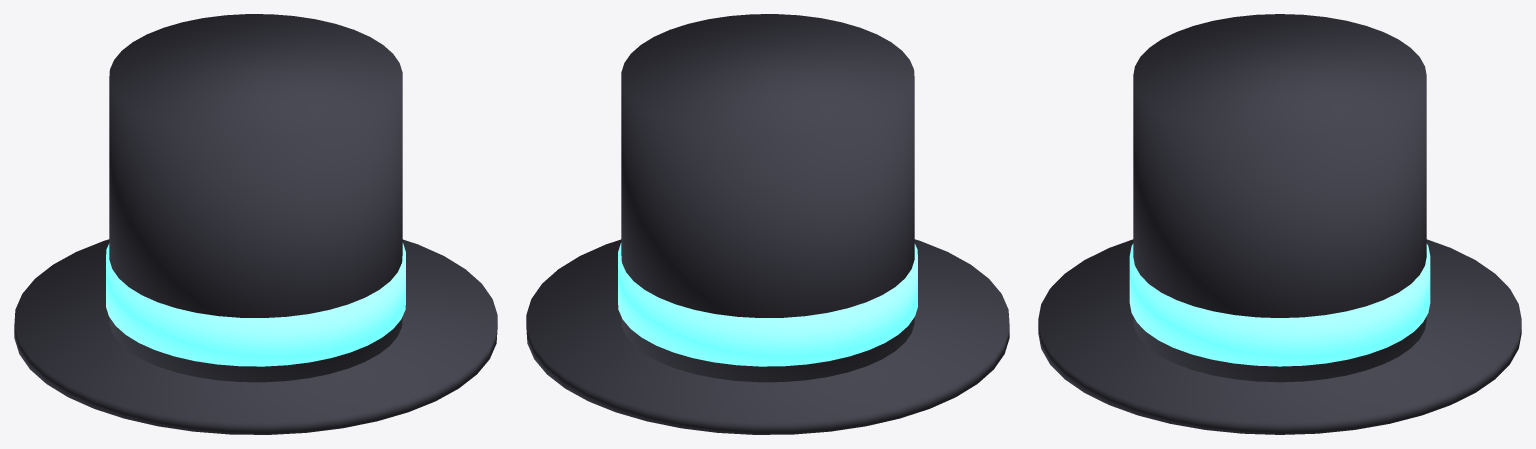
File: top_hat.glb
3 renders of one model, left to right at view 1: azimuth 30°, elevation 25°; view 2: azimuth 150°, elevation 25°; view 3: azimuth 270°, elevation 25°, orthographic.
Parts seen in each view (by area): view 1: top_hat; view 2: top_hat; view 3: top_hat.
Boxes of the visible parts, x1=… form: top_hat: x1=14, y1=14, x2=497, y2=434; top_hat: x1=526, y1=14, x2=1009, y2=434; top_hat: x1=1038, y1=14, x2=1521, y2=434.
Size of the model in its own units: 0.28 by 0.164 by 0.28.
